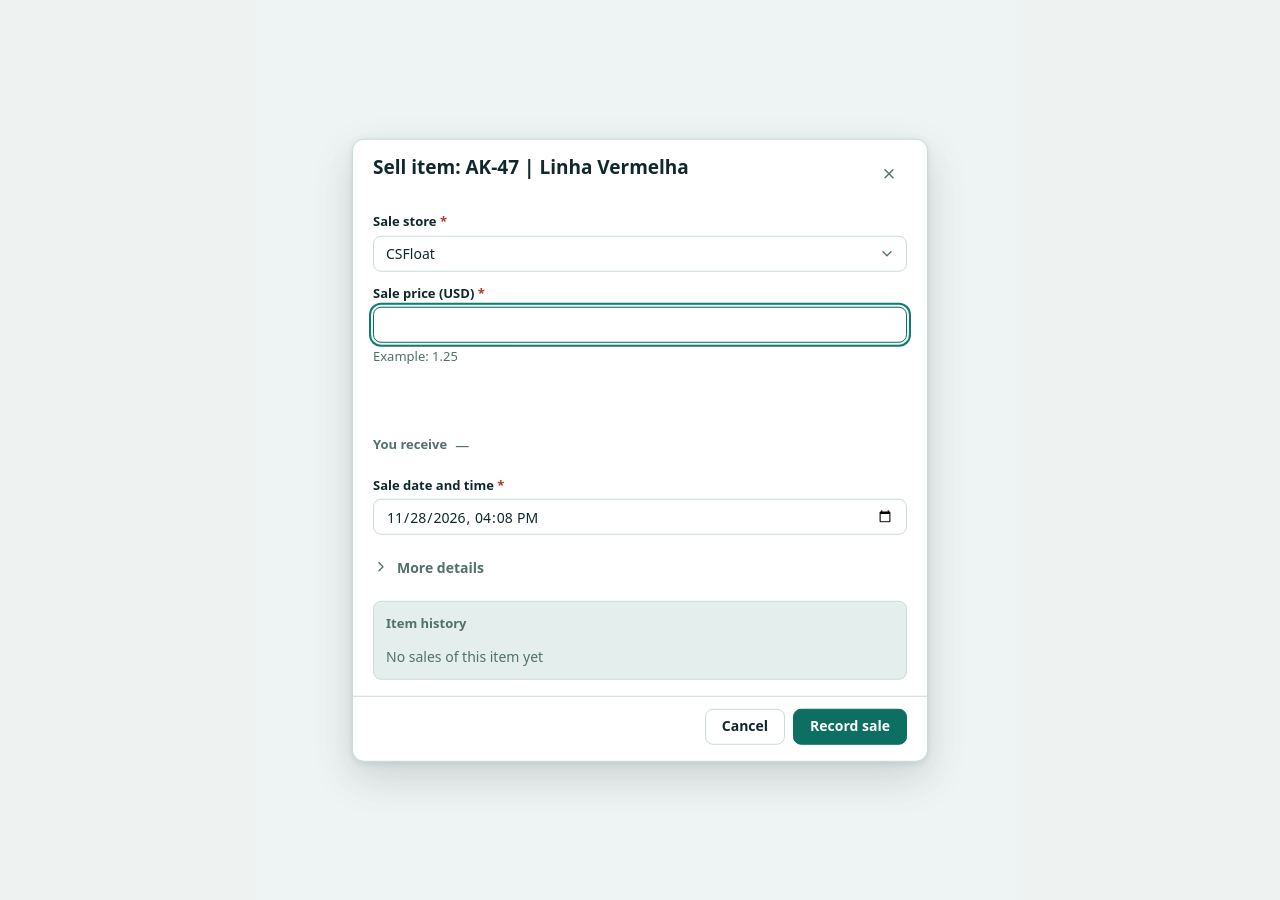
Test: SellItemModal: loja com taxas configuradas › erro da cotação da venda (loja em BRL) abre "Mais detalhes" e mostra o erro no campo
This screenshot has width=1280, height=900.
Select "Steam" in the dropdown labelled "Sale store *" at point(640, 253), box [373,235,907,271]
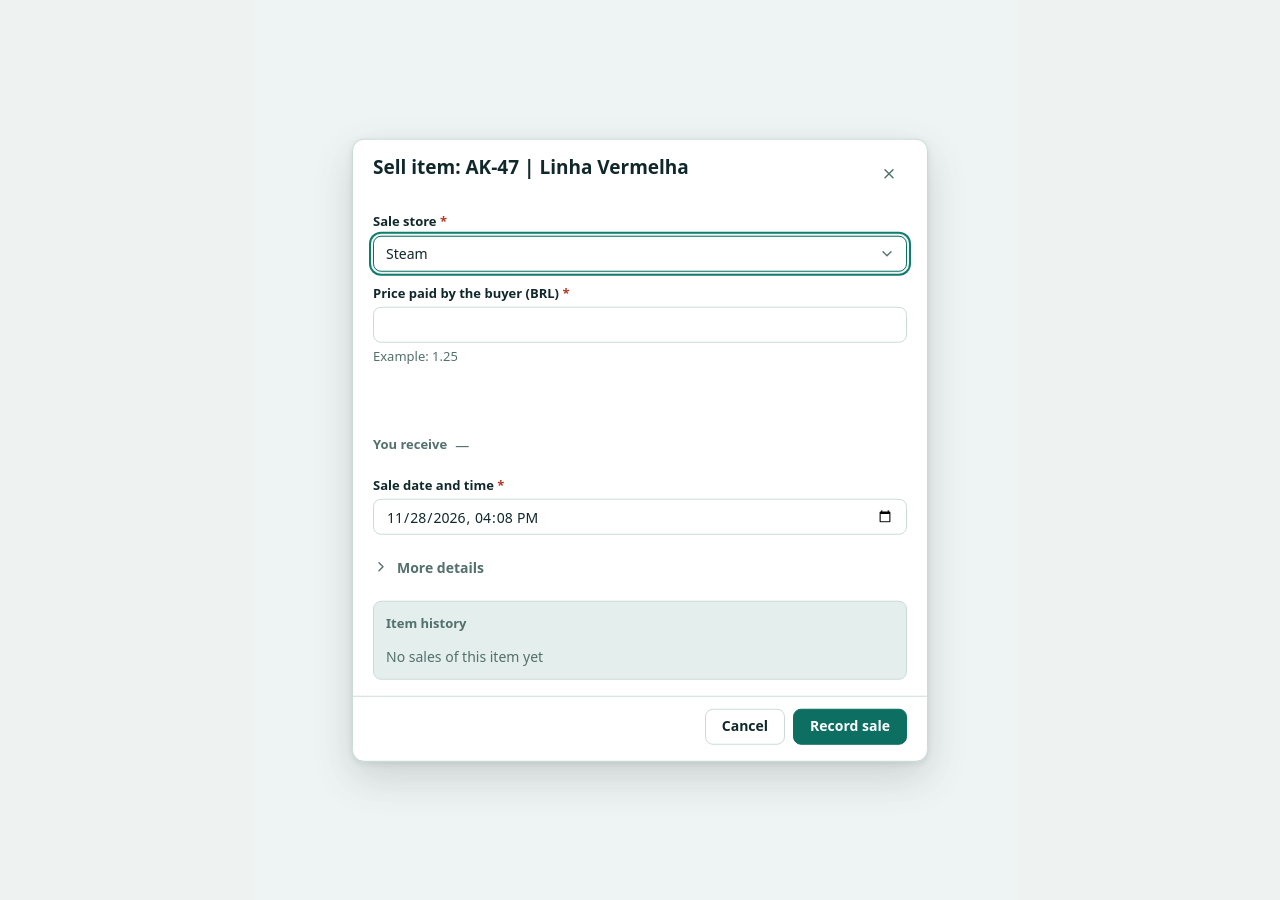
Expected: the field labelled "USD→BRL rate" is not shown
Type "10" into the field labelled "Price paid by the buyer (BRL) *" at point(640, 325), box [386,308,894,342]
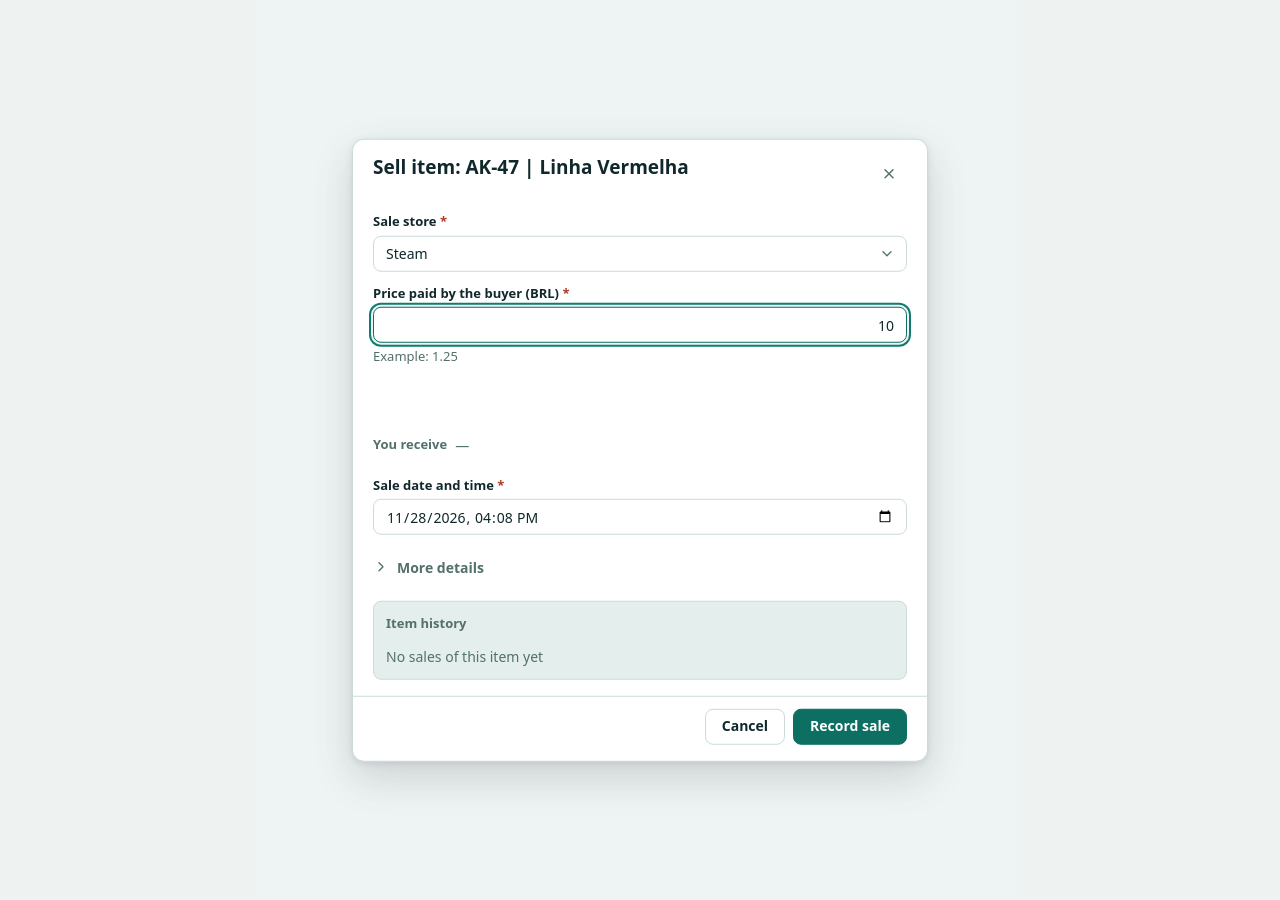
Click the button "Record sale" at point(850, 726), box [793,708,907,744]
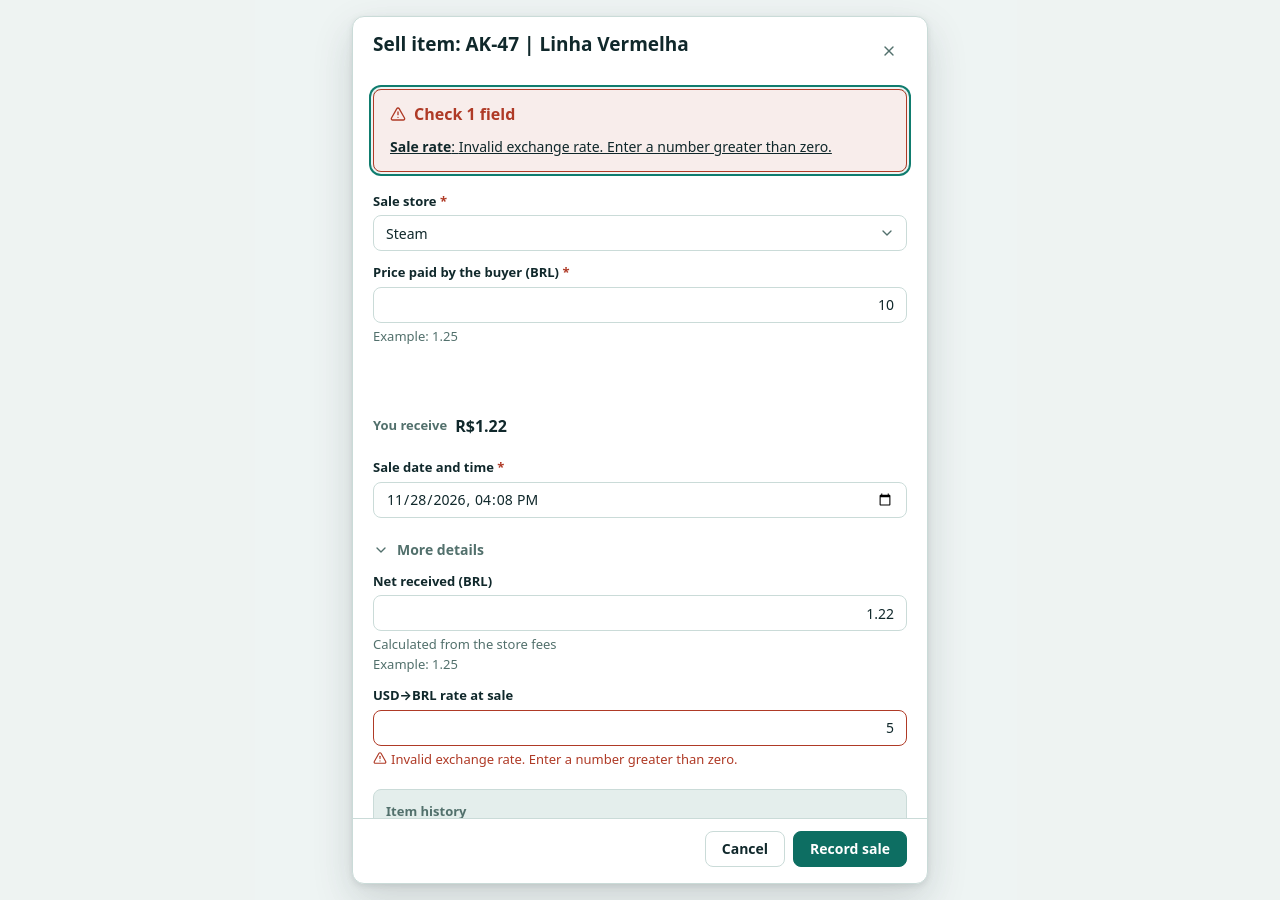
Expected: the field labelled "USD→BRL rate at sale" is shown, [386,710,894,744]
